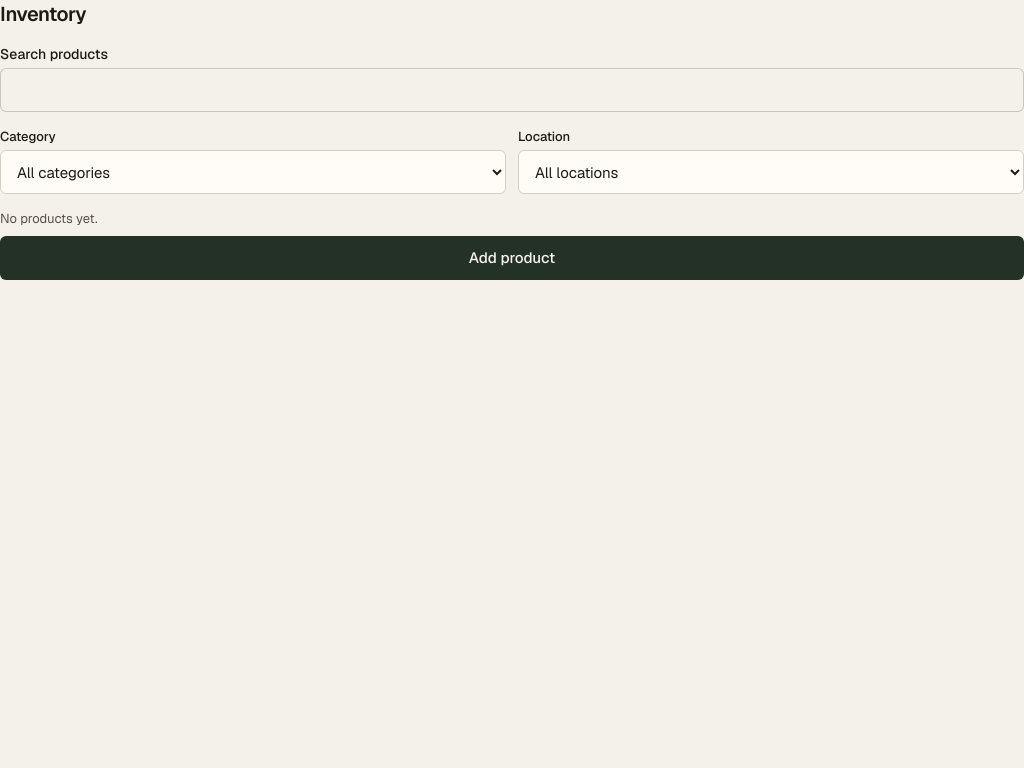
InventoryOverviewScreen › opens the add product dialog from the empty catalog
Expected: the text "No products yet." is shown, [0,210,98,227]
Step 1. Click the button "Add product" → (512, 258), box [0,236,1023,280]
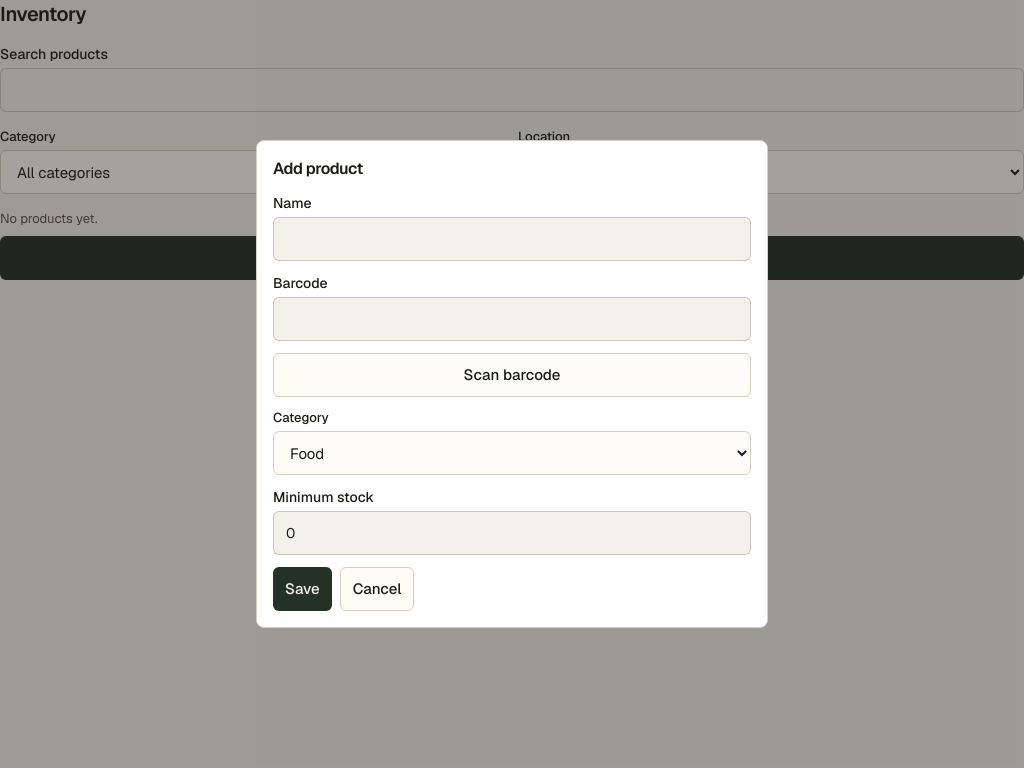
Expected: the dialog "Add product" is shown, [256,140,768,628]
